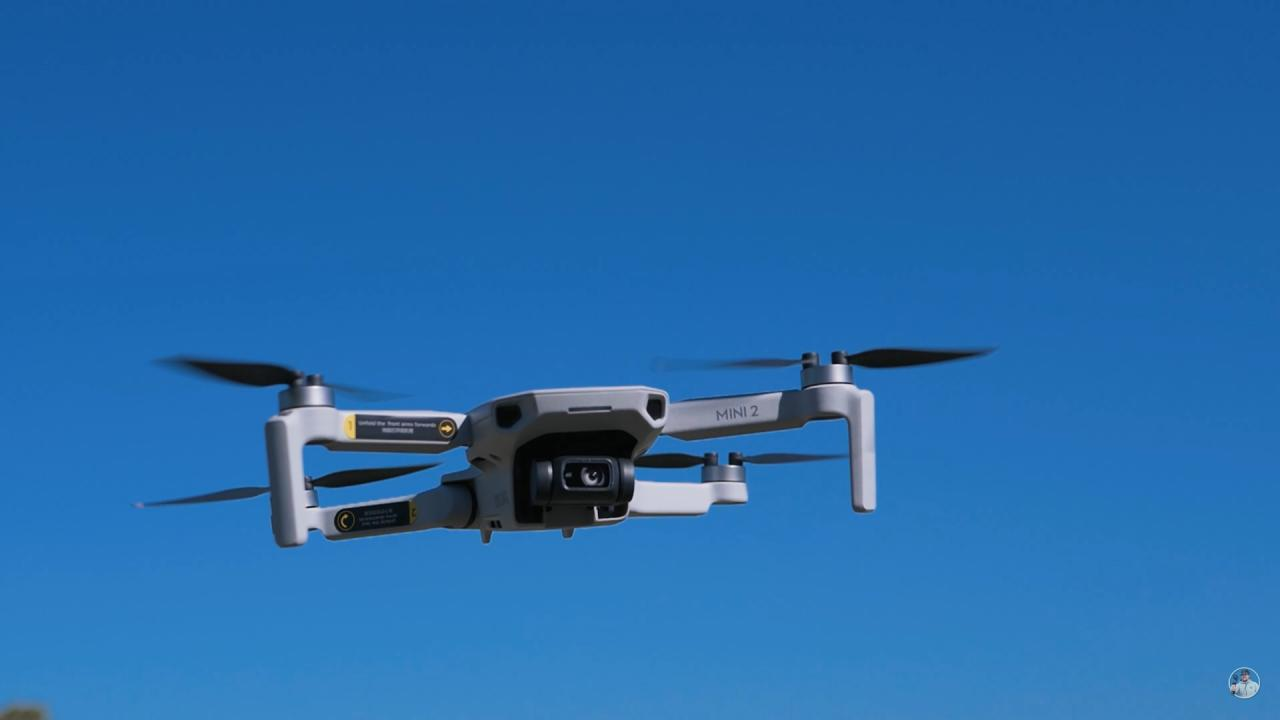Drone: (111, 304, 1026, 578)
